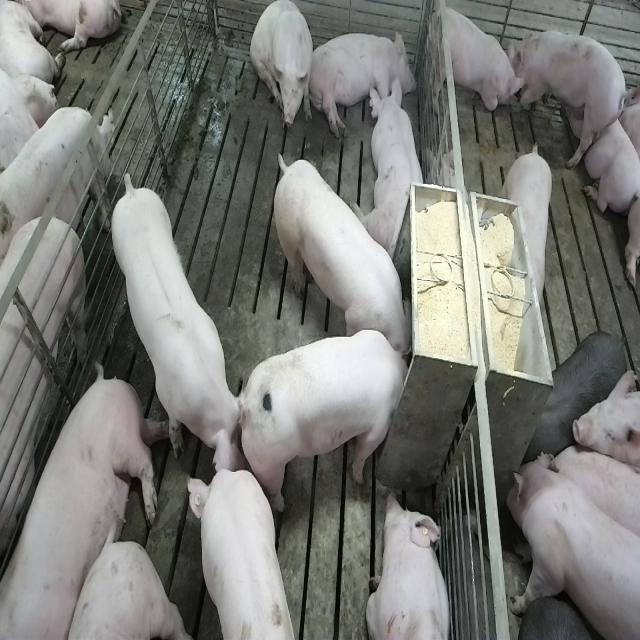Feeding: (246, 329, 420, 514), (269, 144, 411, 358)
Lateral_lying: (4, 364, 168, 640), (307, 26, 417, 139)
Sitting: (423, 0, 520, 126), (250, 2, 315, 136)
Standing: (110, 162, 250, 478), (0, 207, 90, 589), (504, 452, 638, 640), (189, 469, 301, 640), (0, 102, 112, 257), (512, 24, 628, 166), (520, 330, 632, 472), (504, 140, 557, 318)
Sternal_lying: (366, 488, 454, 640), (364, 75, 429, 257), (560, 84, 638, 212)
